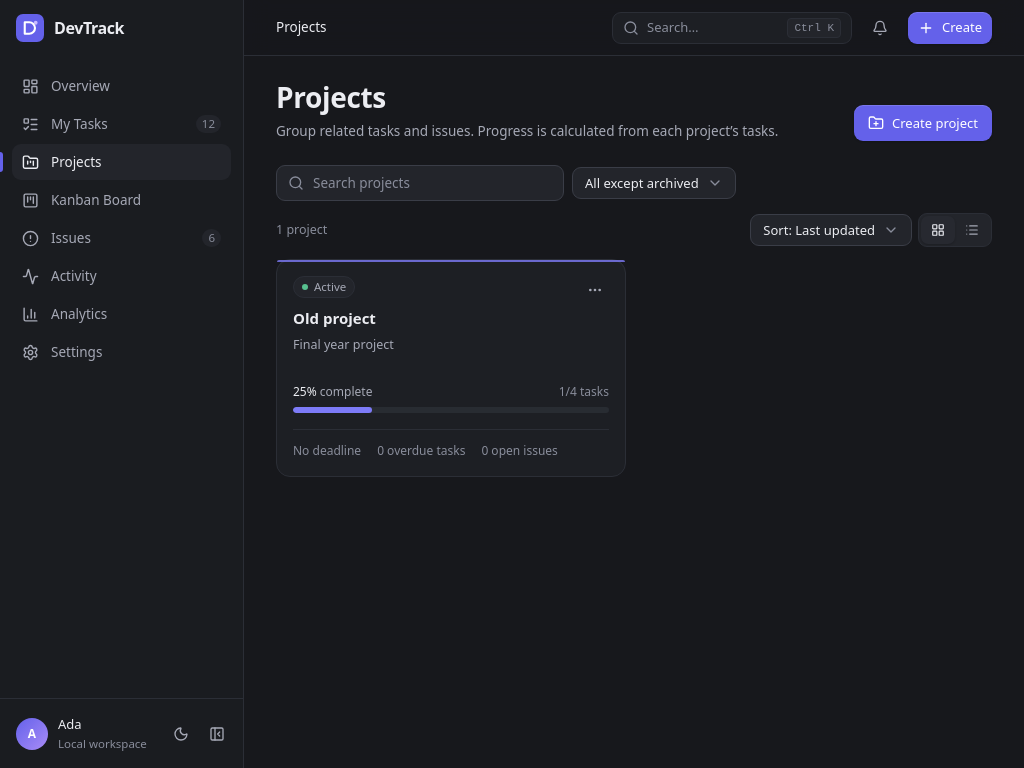
Project forms › asks for confirmation before deleting a project
The width and height of the screenshot is (1024, 768).
Click the button named "Actions for Old project" at (595, 290), box left=581, top=276, right=609, bottom=304
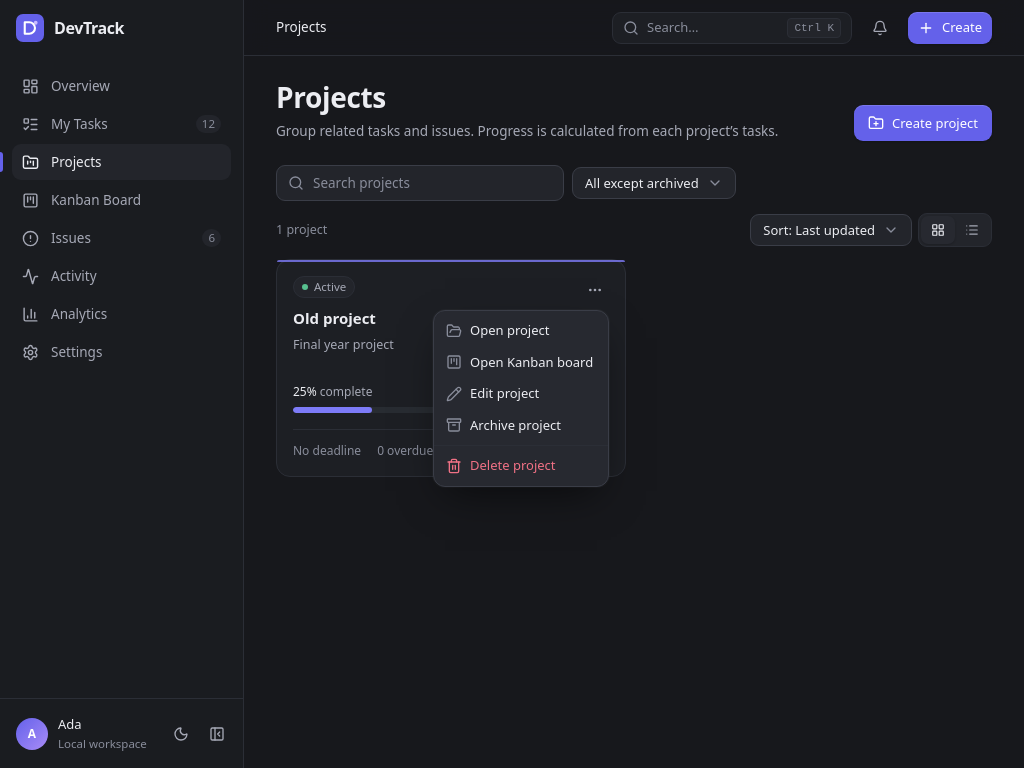
Click the menu item "Delete project" at (501, 465), box left=446, top=456, right=556, bottom=474
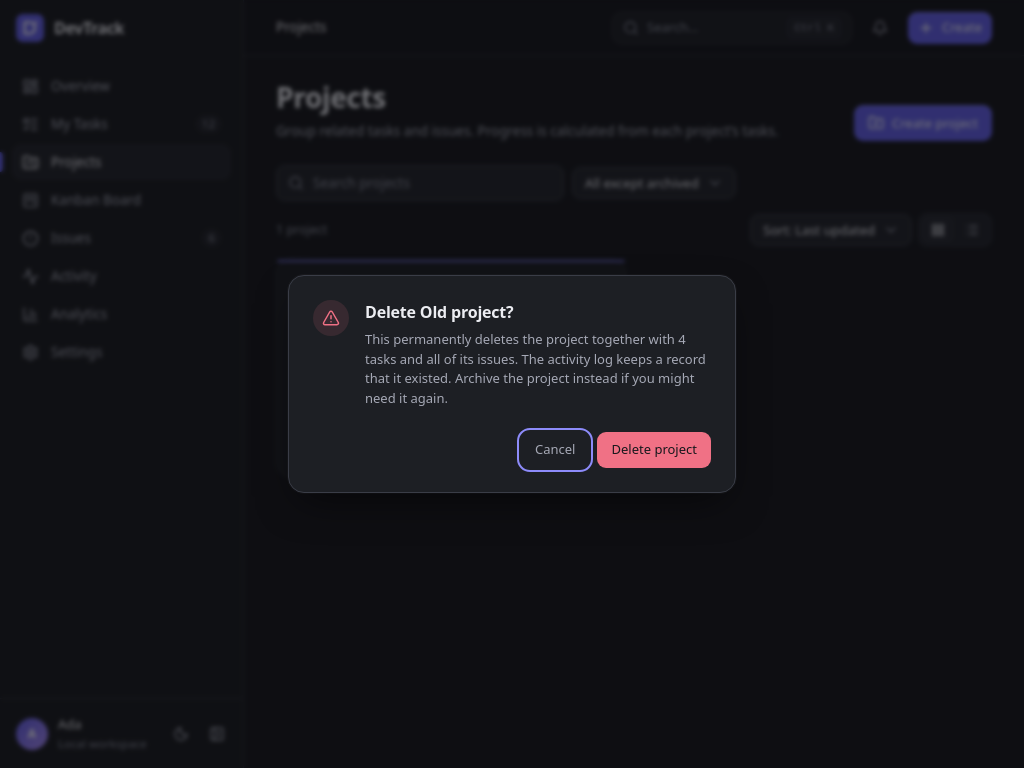
Click the button "Delete project" at (654, 450), box left=598, top=432, right=711, bottom=468
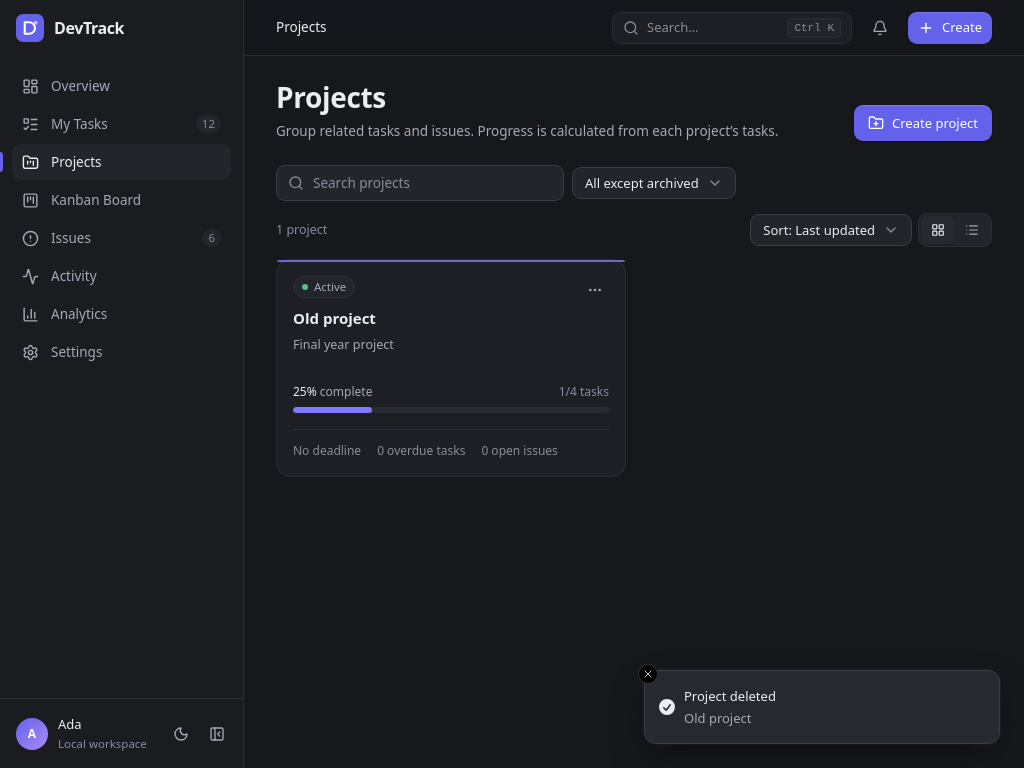
Expected: the text "Project deleted" is shown, left=684, top=687, right=776, bottom=707
